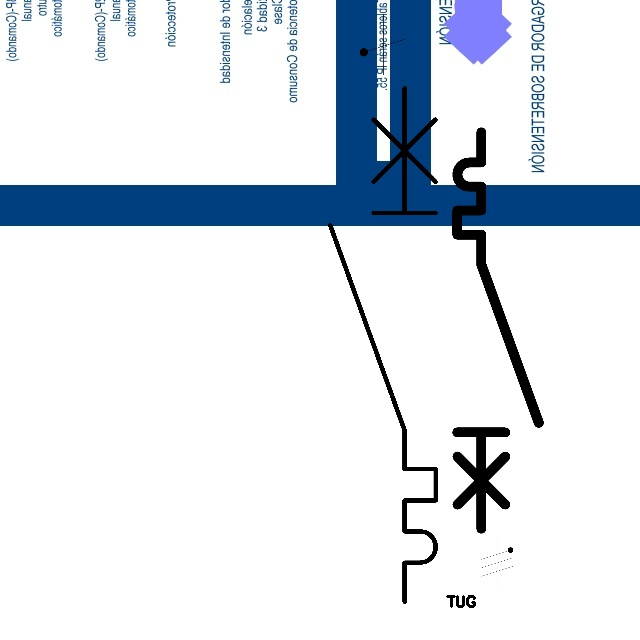interruptor_termomagnetico: (317, 75, 449, 615), (447, 122, 549, 539)
